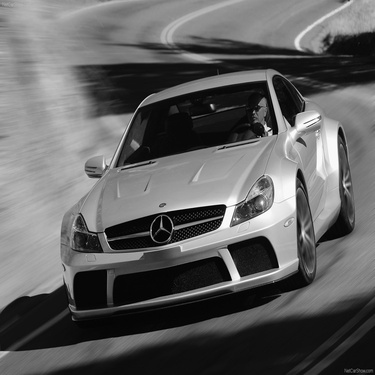car: (49, 60, 358, 332)
